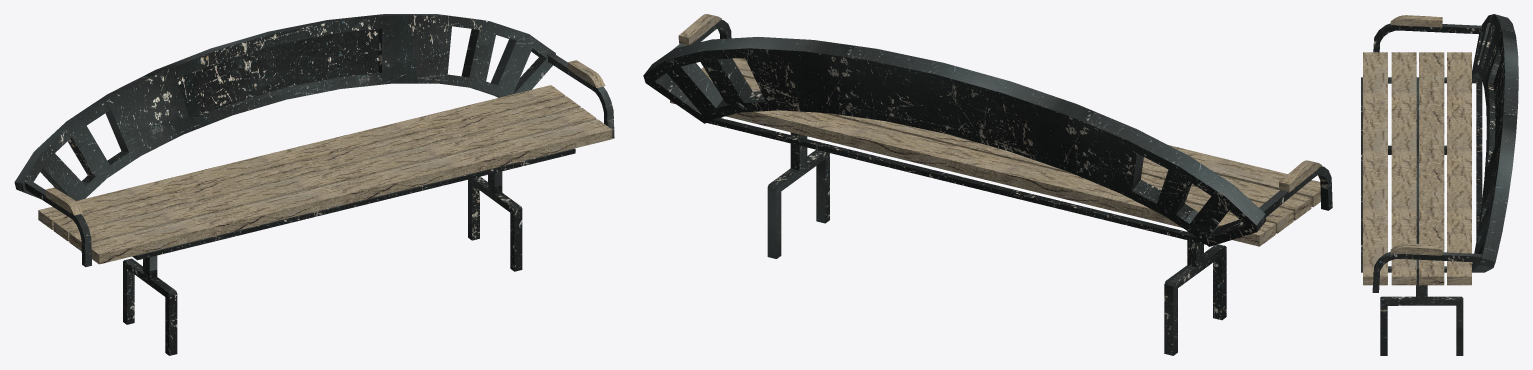
Rendered from bank.FBX.
3 renders of one model, left to right at view 1: azimuth 30°, elevation 25°; view 2: azimuth 150°, elevation 25°; view 3: azimuth 270°, elevation 25°, orthographic. The views are drawn at different scales.
Visible parts, largest first — view 1: temel, oturak, kolluk; view 2: temel, oturak, kolluk; view 3: oturak, temel, kolluk.
Part boxes in pixels (x1,y1,x2,y2): temel: (14,14,614,355); oturak: (38,85,612,264); kolluk: (45,60,605,215); temel: (643,19,1332,355); oturak: (670,57,1320,246); kolluk: (678,14,1322,192); oturak: (1363,52,1471,285); temel: (1361,14,1518,355); kolluk: (1390,15,1442,255).
Size of the model in its own units: 205 by 84.12 by 58.62.
